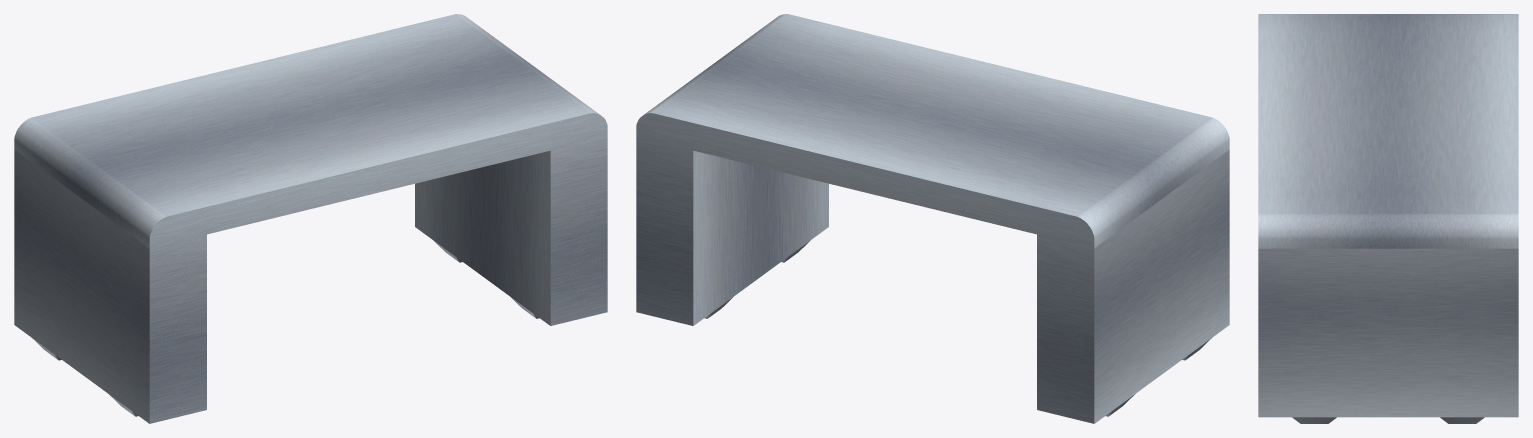
Rendered from Desk.FBX.
The picture shows the model from 3 angles, left to right: view 1: azimuth 30°, elevation 25°; view 2: azimuth 150°, elevation 25°; view 3: azimuth 270°, elevation 25°; orthographic projection. The views are drawn at different scales.
Parts seen in each view (by area): view 1: Box001; view 2: Box001; view 3: Box001.
Part boxes in pixels (x1,y1,x2,y2): Box001: (14,14,607,423); Box001: (636,14,1229,423); Box001: (1258,14,1518,423).
Bounding box in the file's own units: 231 × 103 × 118.
1 material, 1 textured.
